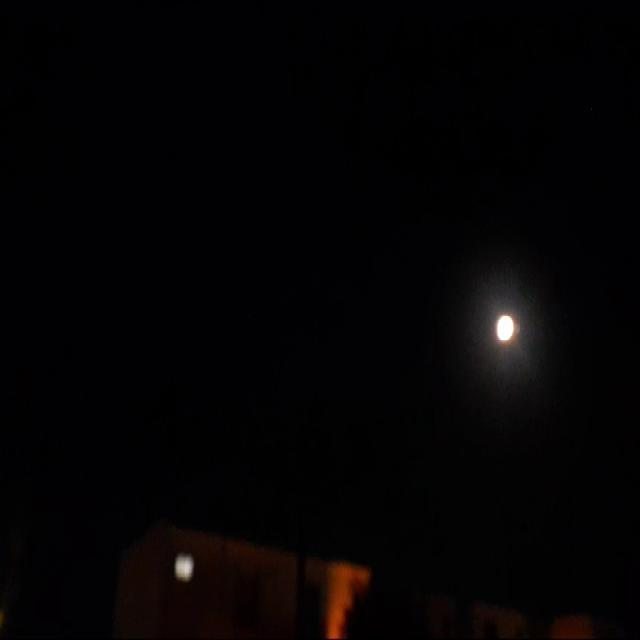moon: (493, 311, 516, 344)
